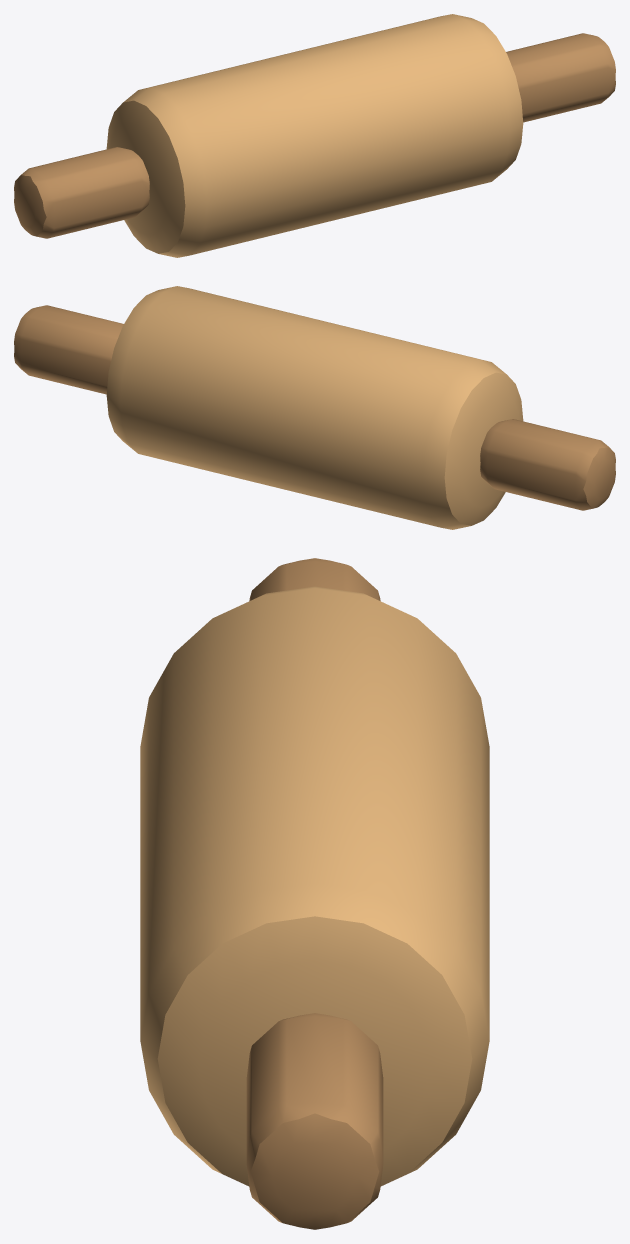
The model's file is rolling_pin.glb.
The picture shows the model from 3 angles, top to bottom: view 1: azimuth 30°, elevation 25°; view 2: azimuth 150°, elevation 25°; view 3: azimuth 270°, elevation 25°; orthographic projection. The views are drawn at different scales.
Visible parts, largest first — view 1: pine, crate; view 2: pine, crate; view 3: pine, crate.
Boxes of the visible parts, x1,y1,x2,y2 form: pine: (106, 14, 523, 257); crate: (14, 33, 615, 238); pine: (106, 286, 523, 529); crate: (14, 305, 615, 510); pine: (140, 586, 489, 1186); crate: (246, 558, 383, 1229).
Size of the model in its own units: 0.46 by 0.12 by 0.12.
